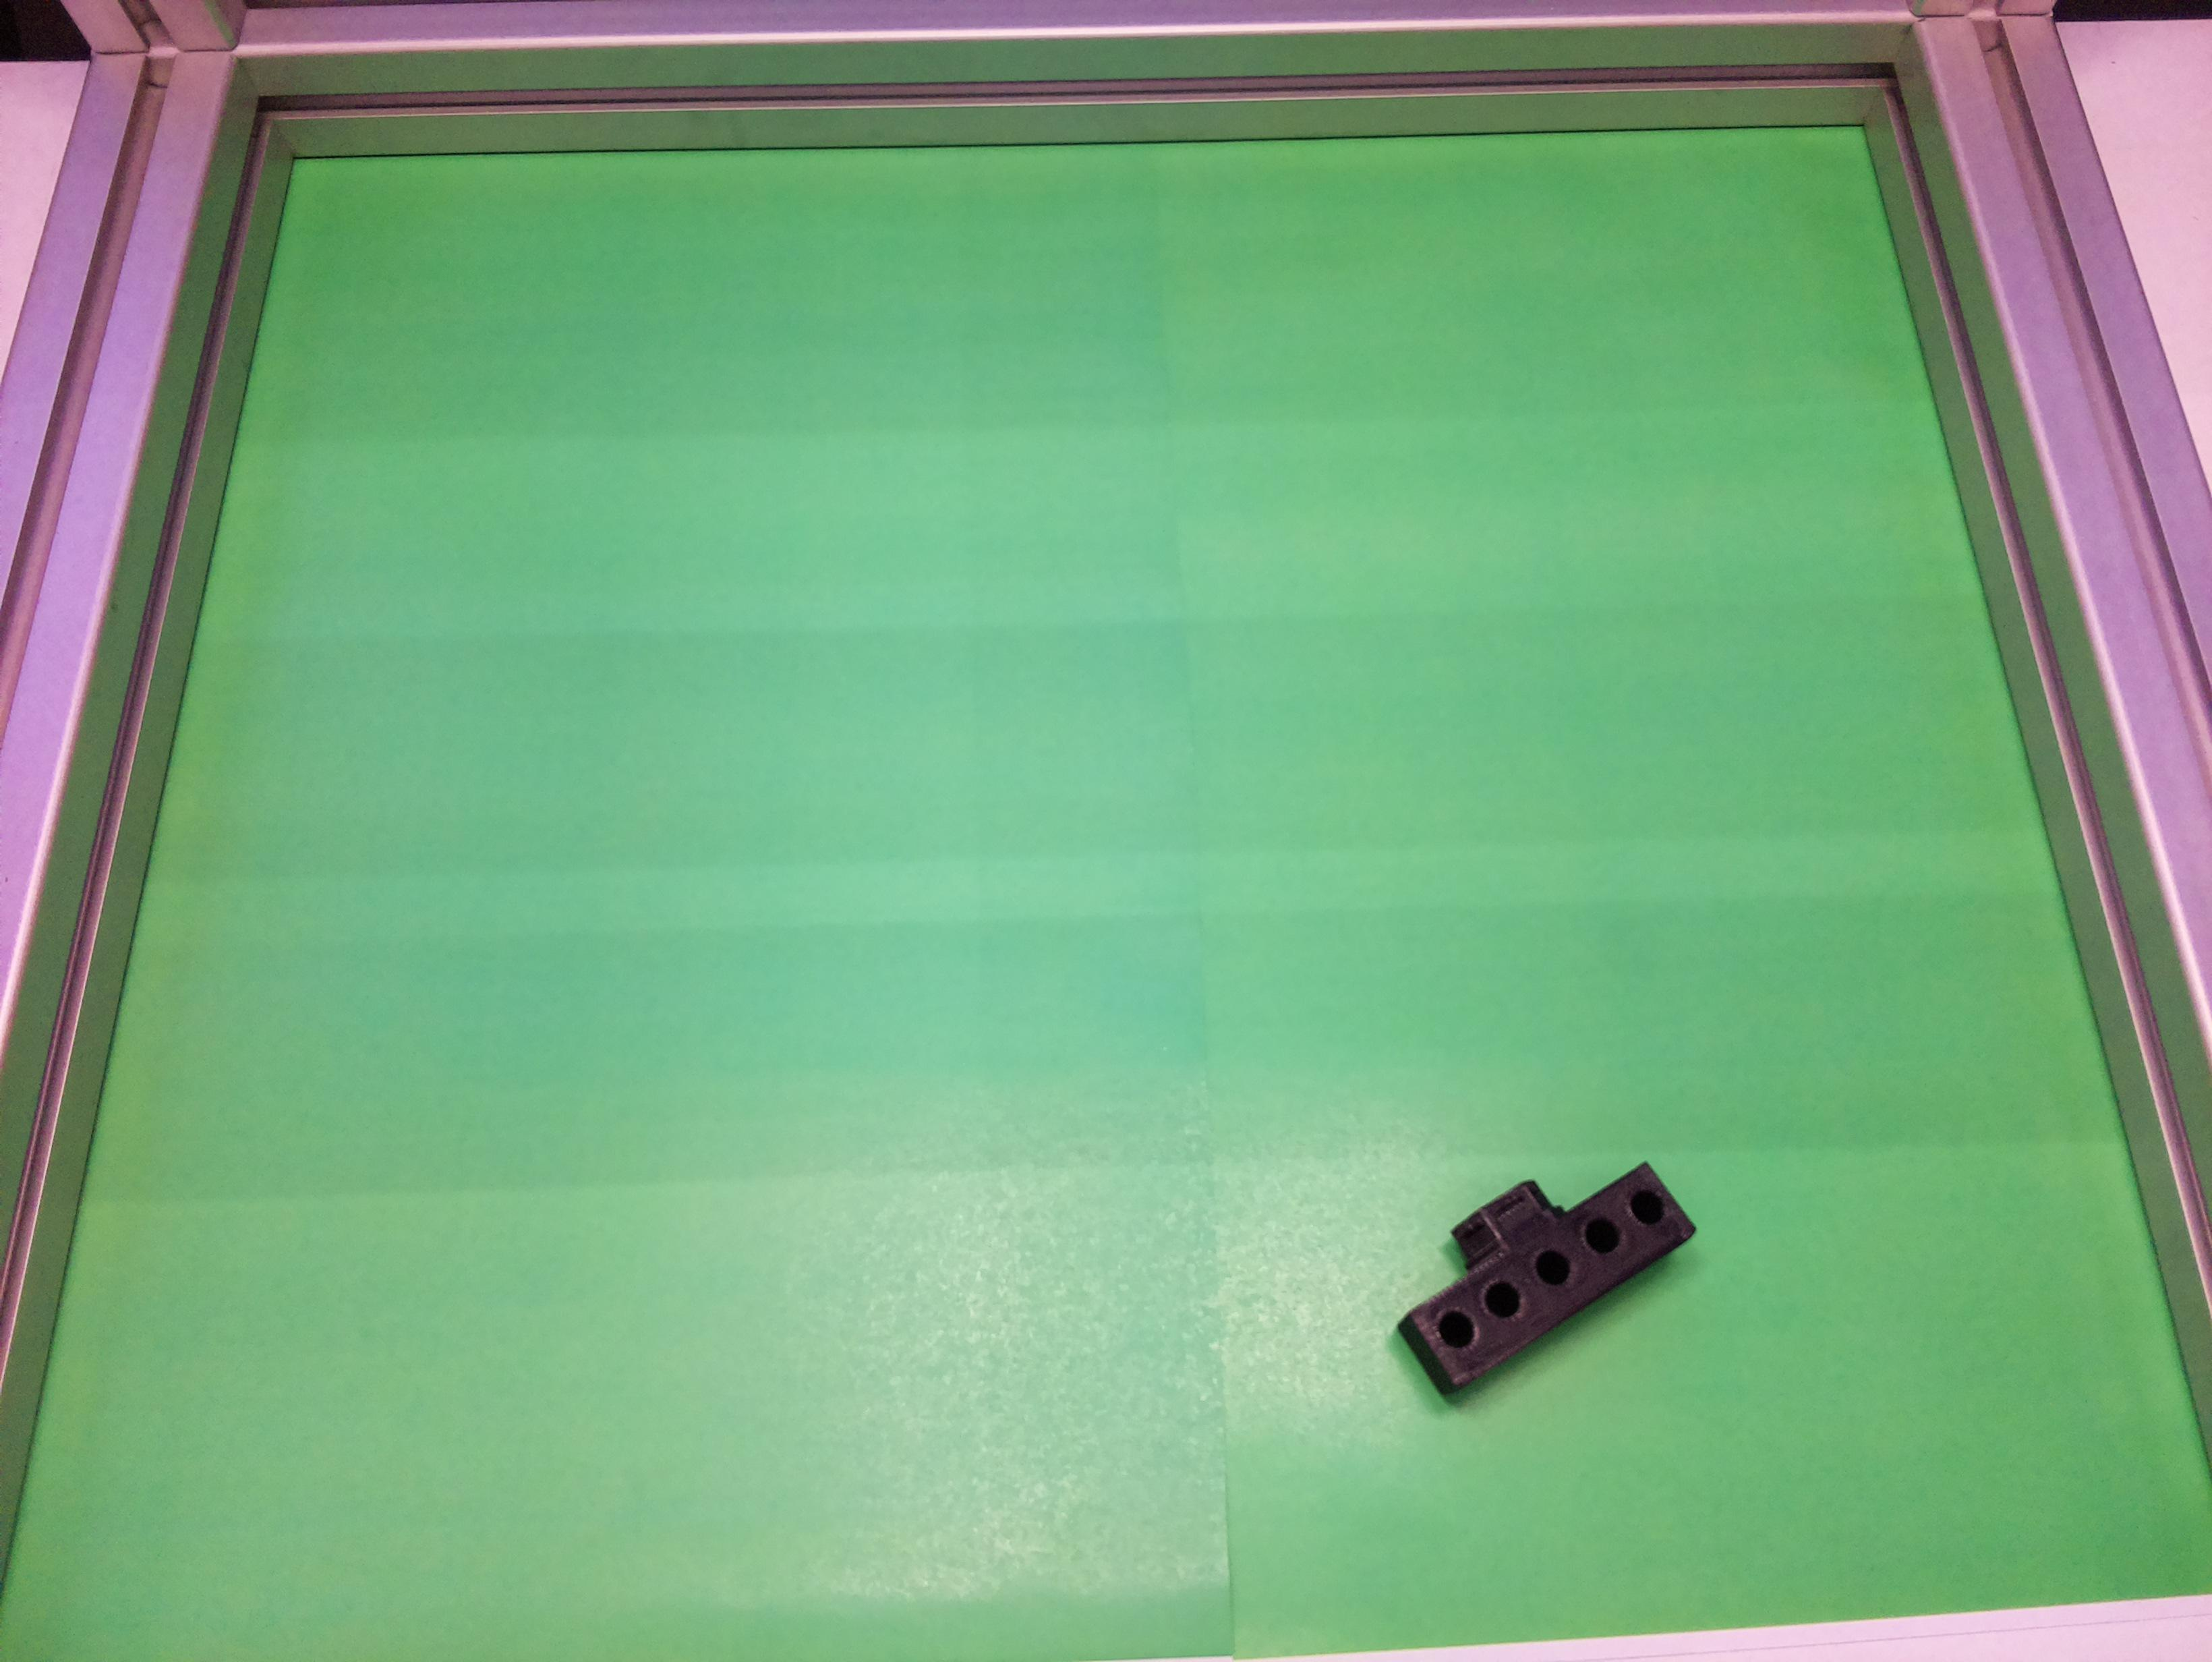bit_holder: (1367, 1114, 1699, 1404)
